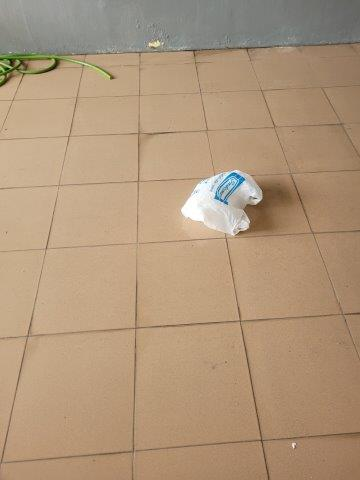plastik: (179, 174, 264, 239)
